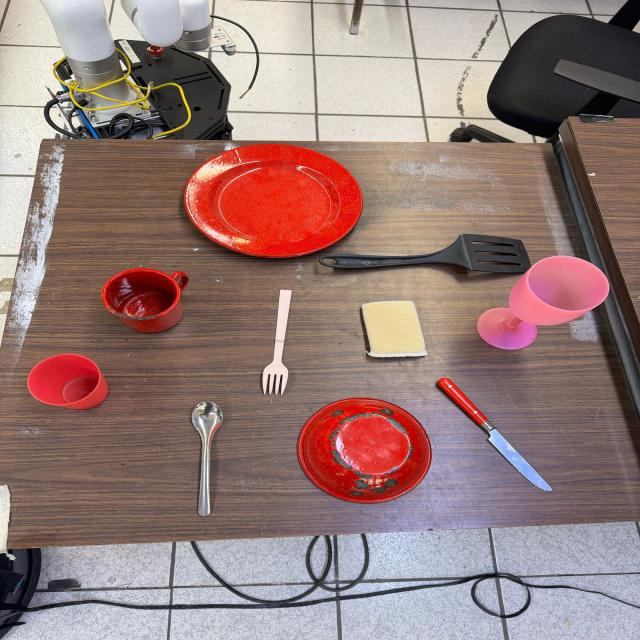cup: (100, 267, 192, 331)
fork: (261, 291, 295, 394)
glass: (25, 352, 110, 410)
knife: (436, 378, 552, 496)
plate: (183, 143, 363, 257)
spatula: (320, 233, 532, 273)
sponge: (361, 302, 428, 357)
spoon: (190, 399, 224, 517)
tazon: (296, 398, 430, 504)
wineglass: (475, 254, 609, 345)
